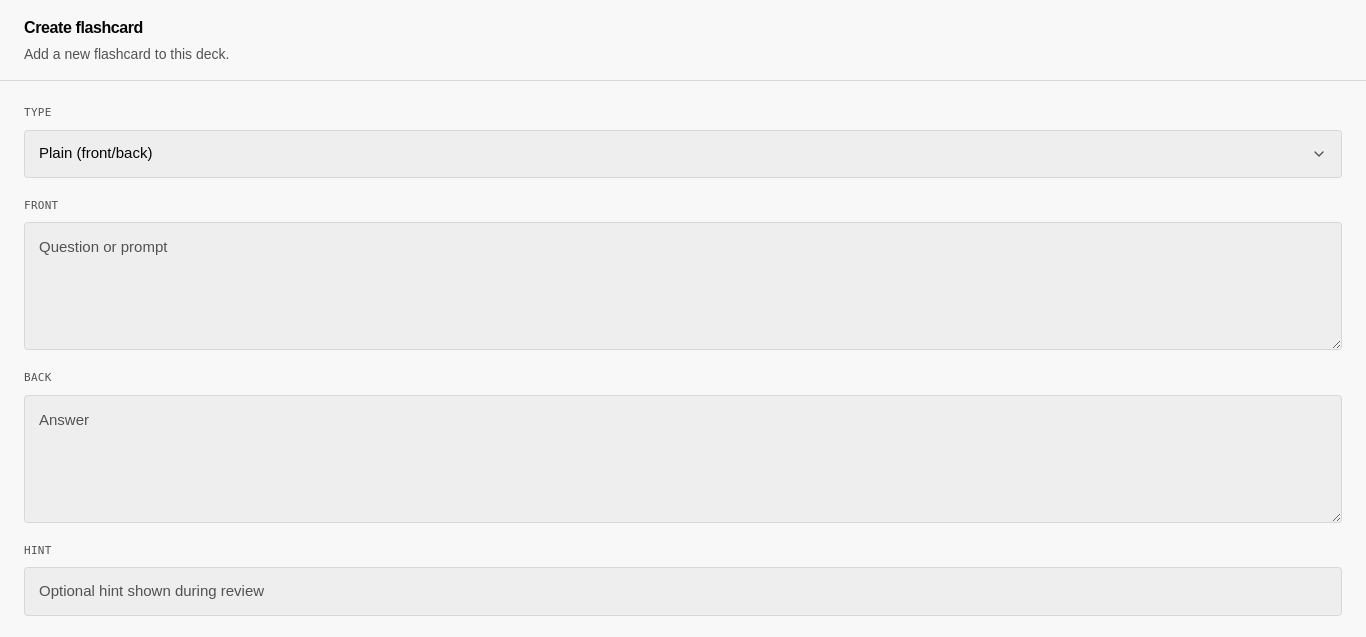
Scenario: CardForm › field visibility by card type › shows Accepted answer, Aliases and Case sensitive for typed_answer type
Click the dropdown named "type": [96, 153] box [24,130,1342,178]
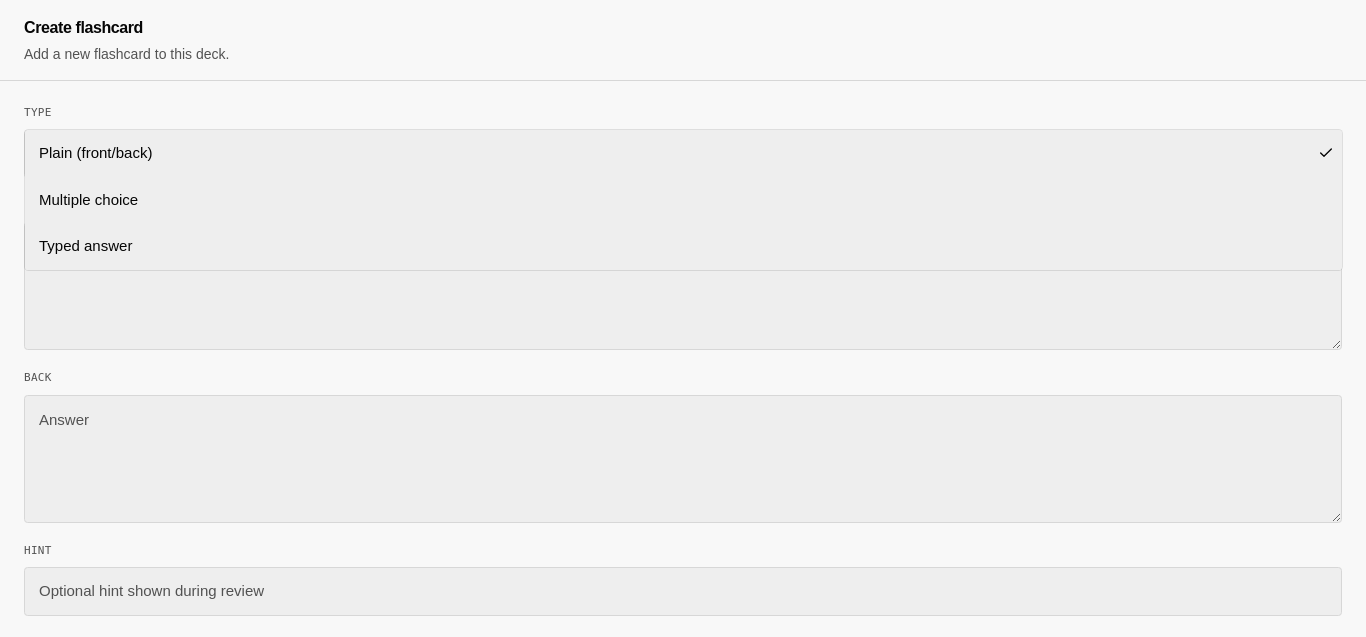
Click the option "Typed answer": [86, 246] box [25,223,1342,270]
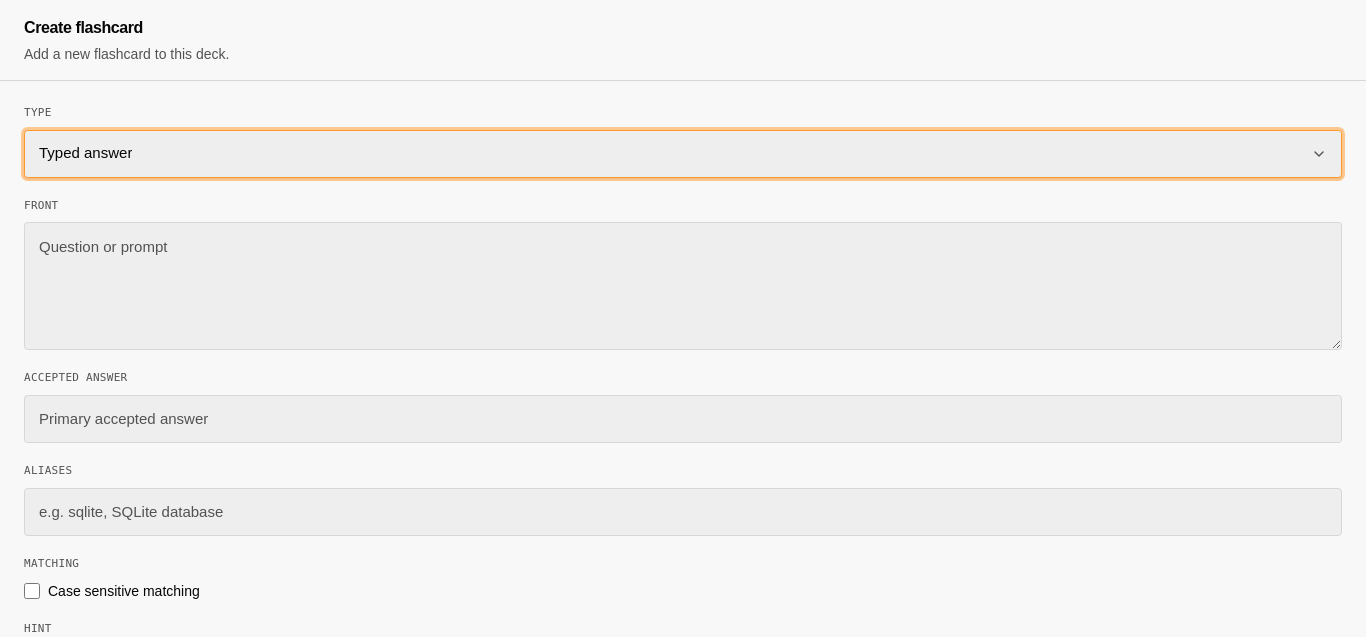
Expected: the list is gone
Expected: the field labelled "Accepted answer" is shown, [24,394,1342,443]
Expected: the field labelled "Aliases" is shown, [24,488,1342,536]
